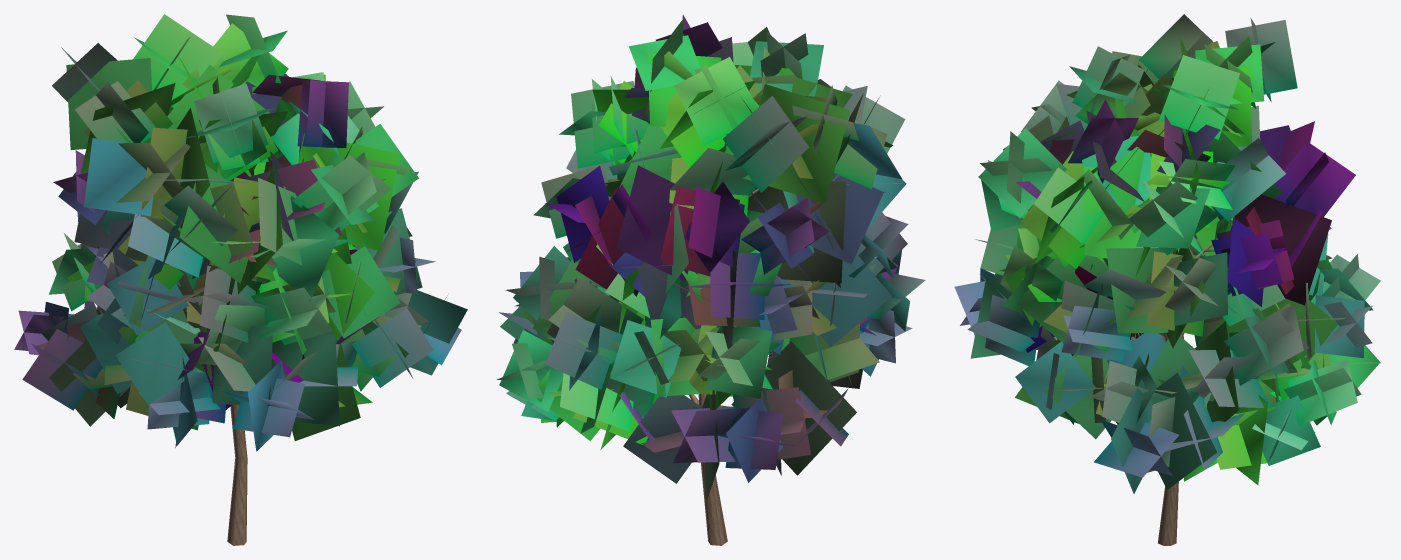
File: RedMaple_v03_LOD1.fbx
3 renders of one model, left to right at view 1: azimuth 30°, elevation 25°; view 2: azimuth 150°, elevation 25°; view 3: azimuth 270°, elevation 25°, orthographic. The views are drawn at different scales.
Parts seen in each view (by area): view 1: Foliage, Bark; view 2: Foliage, Bark; view 3: Foliage, Bark.
Part boxes in pixels (box(x1,y1,x2,y2)): Foliage: box(14, 14, 467, 451); Bark: box(227, 276, 257, 545); Foliage: box(496, 14, 925, 499); Bark: box(689, 188, 758, 545); Foliage: box(954, 14, 1380, 493); Bark: box(1130, 231, 1226, 545).
Size of the model in its own units: 12.59 by 16.24 by 12.73.
